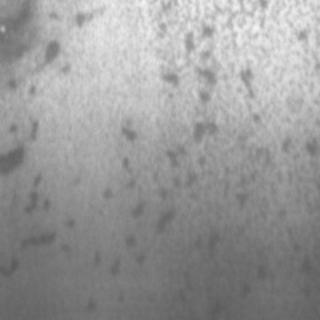pitted_surface: (118, 22, 312, 298), (0, 109, 76, 281), (0, 0, 68, 116)
